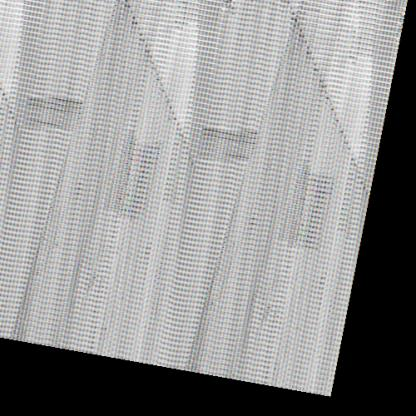Damage: (190, 100, 255, 164)
